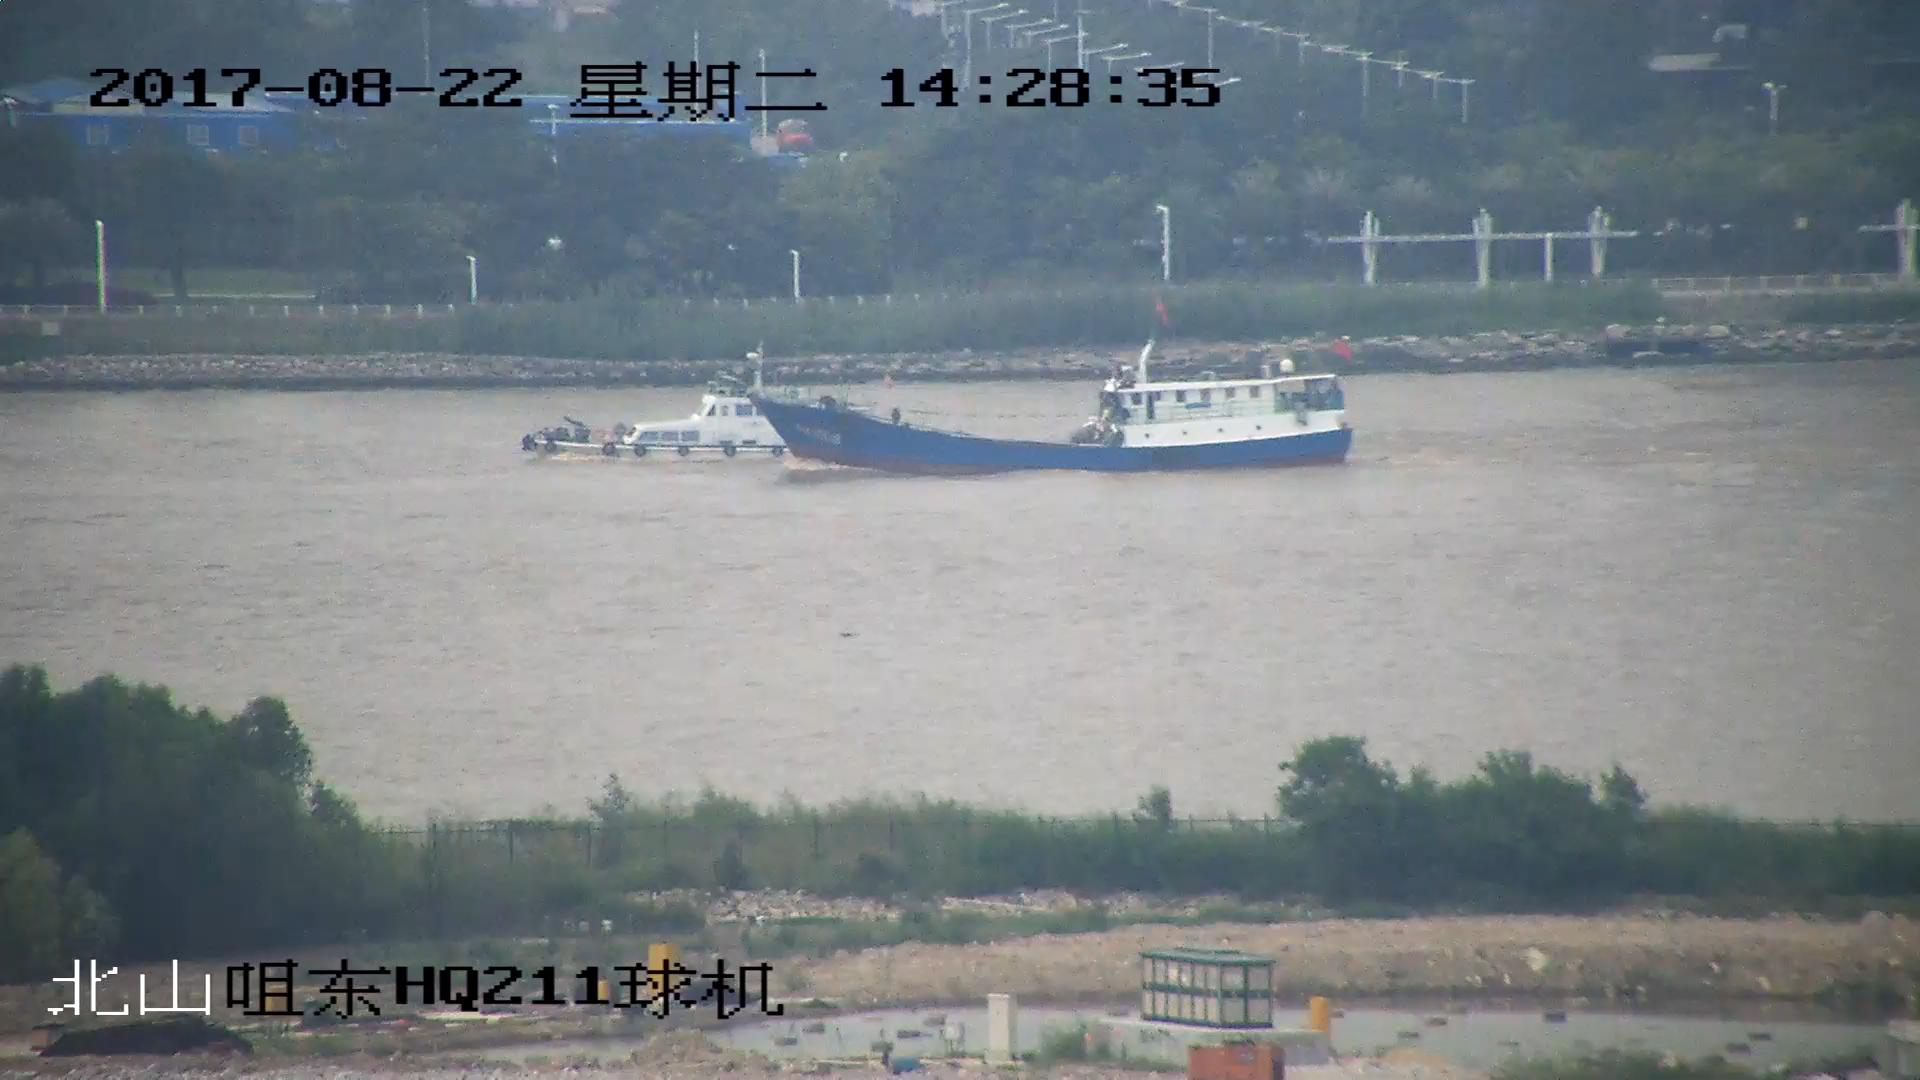fishing boat: (757, 297, 1357, 476)
passenger ship: (518, 373, 821, 463)
